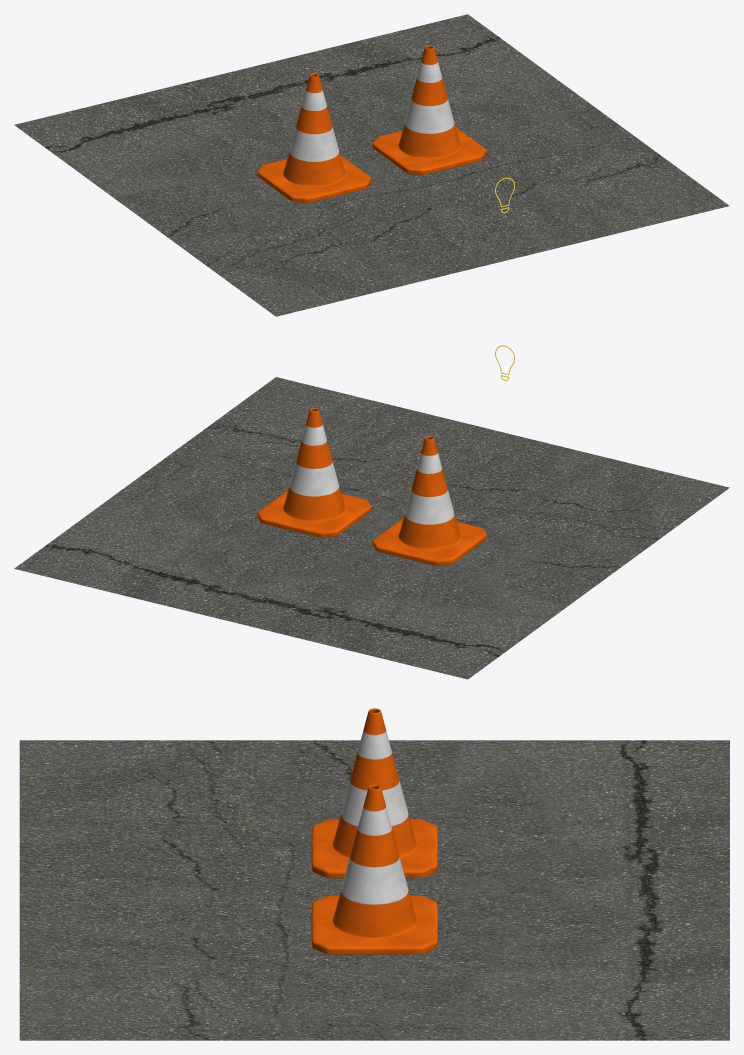
The model's file is TrafficCone.glb.
3 renders of one model, top to bottom at view 1: azimuth 30°, elevation 25°; view 2: azimuth 150°, elevation 25°; view 3: azimuth 270°, elevation 25°, orthographic. The views are drawn at different scales.
Parts seen in each view (by area): view 1: GroundPlane, Cone Retroreflection, Cone Normal; view 2: GroundPlane, Cone Normal, Cone Retroreflection; view 3: GroundPlane, Cone Normal, Cone Retroreflection.
Boxes of the visible parts, left/top/right/bottom form: GroundPlane: left=14, top=14, right=729, bottom=316; Cone Retroreflection: left=257, top=73, right=371, bottom=203; Cone Normal: left=372, top=45, right=486, bottom=174; GroundPlane: left=14, top=377, right=729, bottom=679; Cone Normal: left=257, top=408, right=371, bottom=537; Cone Retroreflection: left=372, top=436, right=486, bottom=565; GroundPlane: left=19, top=740, right=729, bottom=1040; Cone Normal: left=311, top=784, right=437, bottom=954; Cone Retroreflection: left=311, top=708, right=437, bottom=878.
Bounding box in the file's own units: 2.36 × 0.5193 × 2.38.
3 materials, 2 textured.
